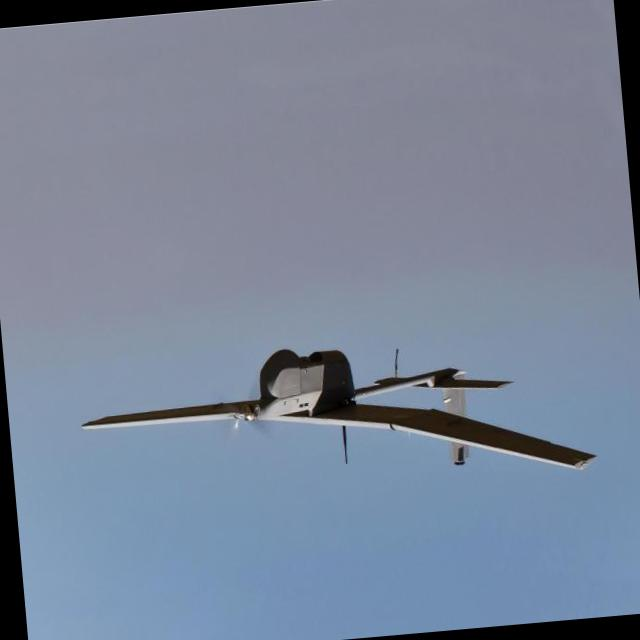UAV: (97, 298, 578, 535)
